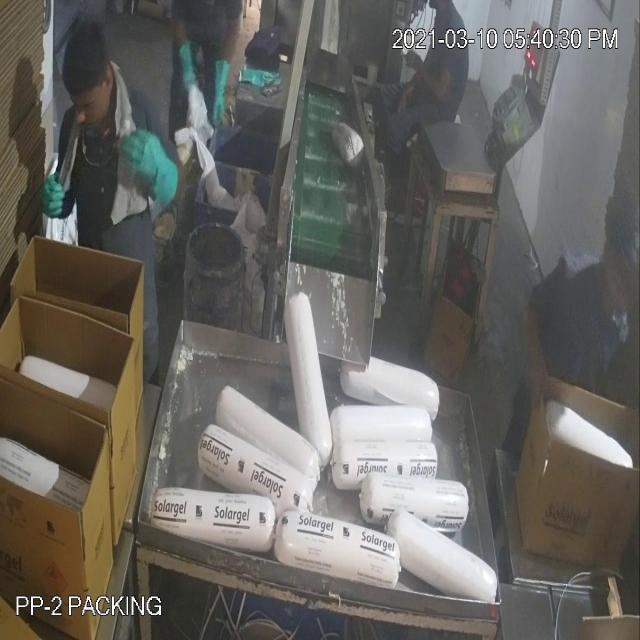Gloves: (18, 54, 540, 354)
